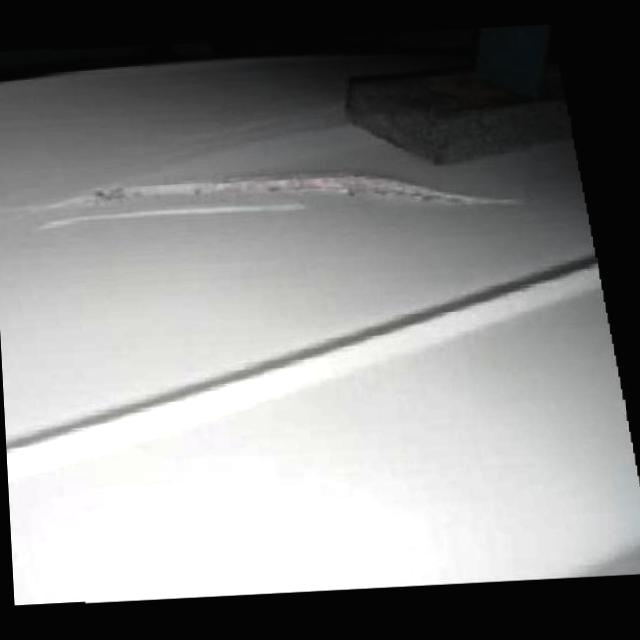crack: (41, 163, 527, 228)
